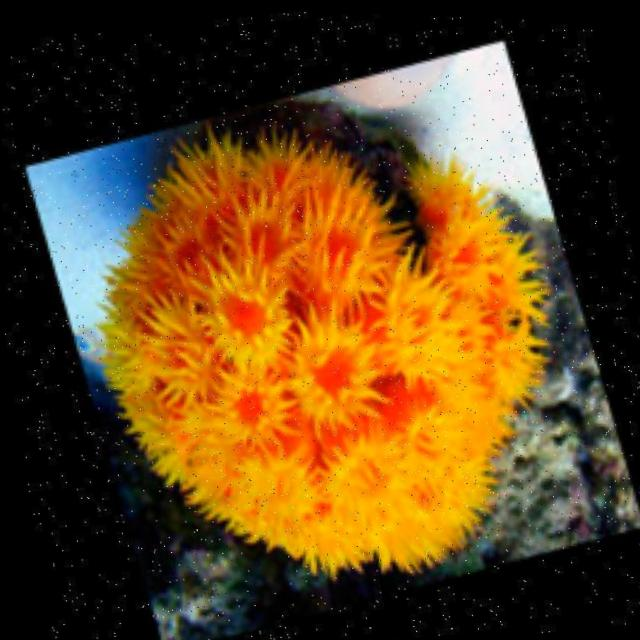Healthy Coral: (8, 16, 626, 640)
